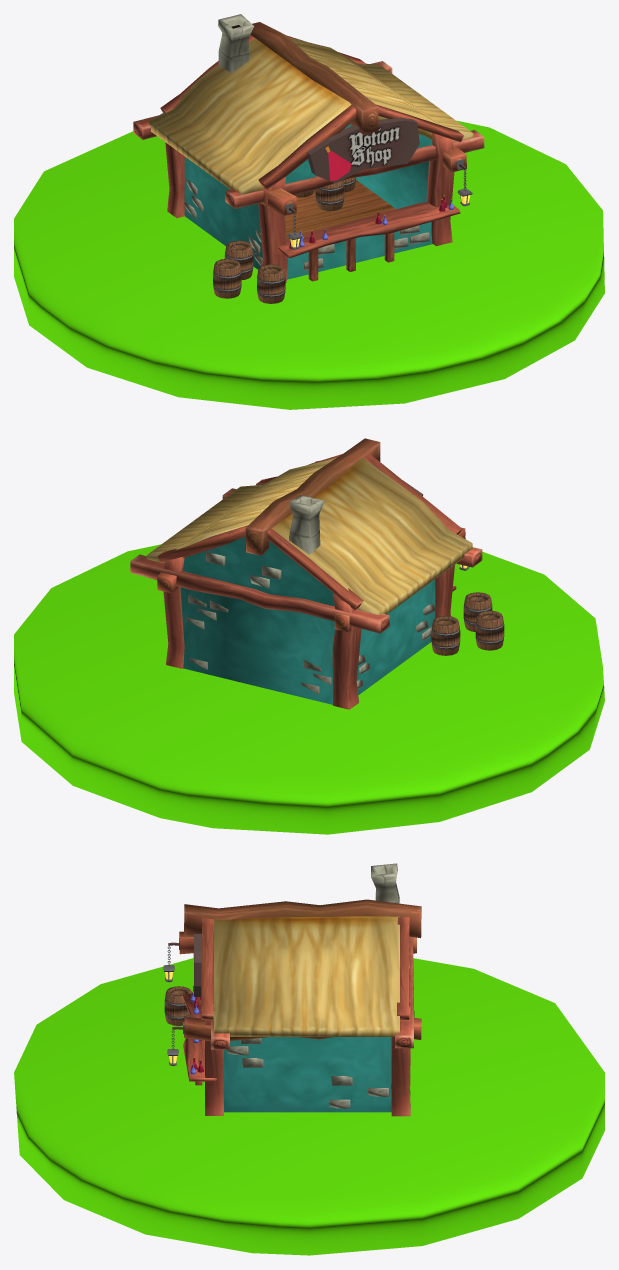
Rendered from potion.glb.
The picture shows the model from 3 angles, top to bottom: view 1: azimuth 30°, elevation 25°; view 2: azimuth 150°, elevation 25°; view 3: azimuth 270°, elevation 25°; orthographic projection.
Parts seen in each view (by area): view 1: Cylinder, House, Shop Sign, Barrel, Barrel.001, Barrel.002, Barrel.005; view 2: Cylinder, House, Barrel.001, Barrel.002, Barrel; view 3: Cylinder, House, Barrel.
Boxes of the visible parts, box(x1,y1,x2,y2) form: Cylinder: box(14, 120, 604, 409); House: box(133, 14, 484, 282); Shop Sign: box(306, 117, 419, 183); Barrel: box(257, 264, 285, 303); Barrel.001: box(213, 258, 241, 298); Barrel.002: box(224, 240, 253, 279); Barrel.005: box(315, 180, 344, 211); Cylinder: box(14, 544, 604, 834); House: box(130, 438, 482, 709); Barrel.001: box(475, 610, 504, 650); Barrel.002: box(431, 616, 460, 655); Barrel: box(463, 592, 492, 631); Cylinder: box(14, 958, 604, 1255); House: box(179, 863, 421, 1116); Barrel: box(164, 986, 191, 1025).
Bounding box in the file's own units: 1843 × 841 × 1843.
9 materials, 8 textured.
